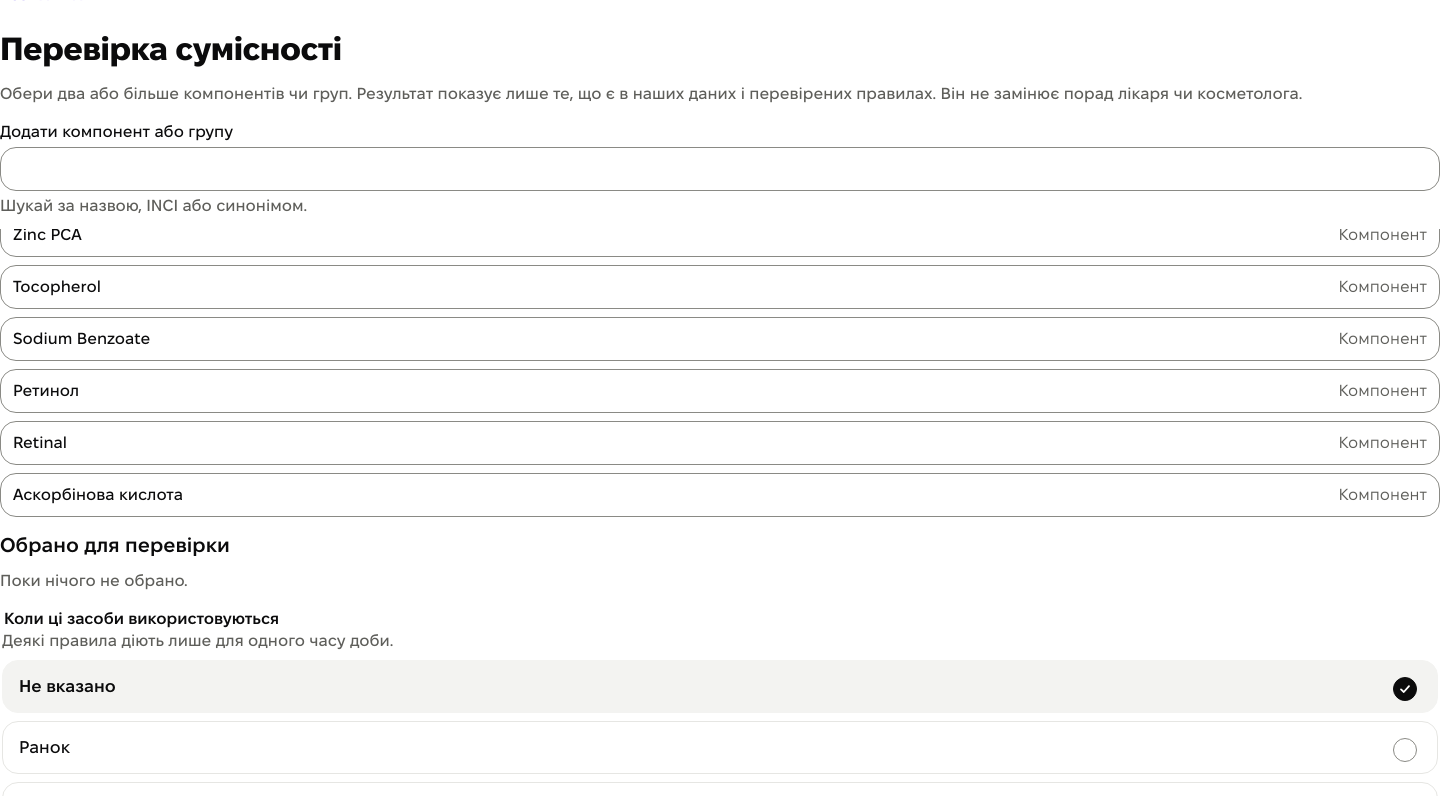
Scenario: CompatCheckerPage: the screen › the choices are toggle buttons that can be taken back
(page scrolled)
Click the button "Ретинол Компонент". click: coordinates (46, 390)
box: [0,369,1439,413]
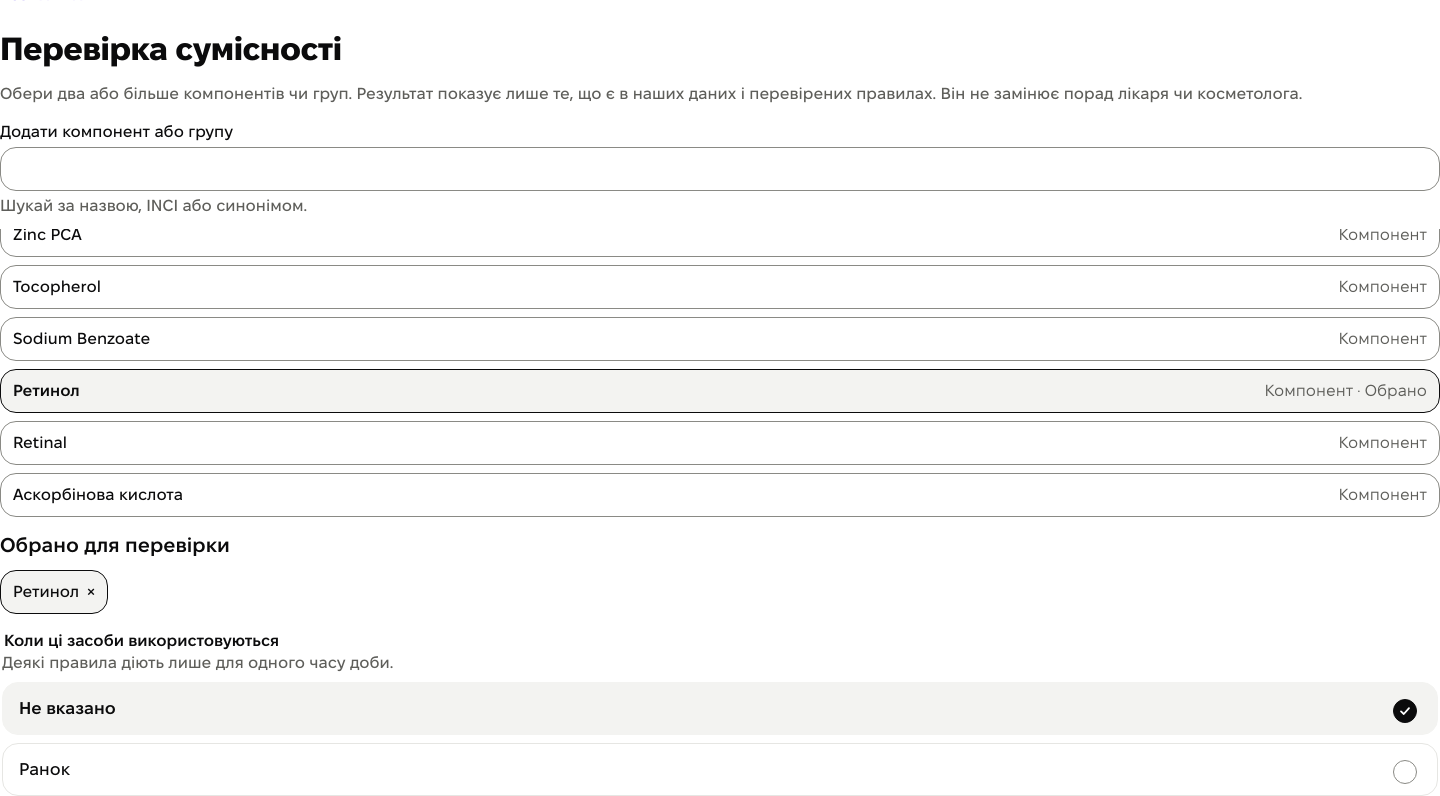
Check: the button "Ретинол Компонент · Обрано" is pressed, box [0,369,1439,413]
Click the button "Ретинол ×". click: coordinates (54, 592)
box: [0,570,108,614]
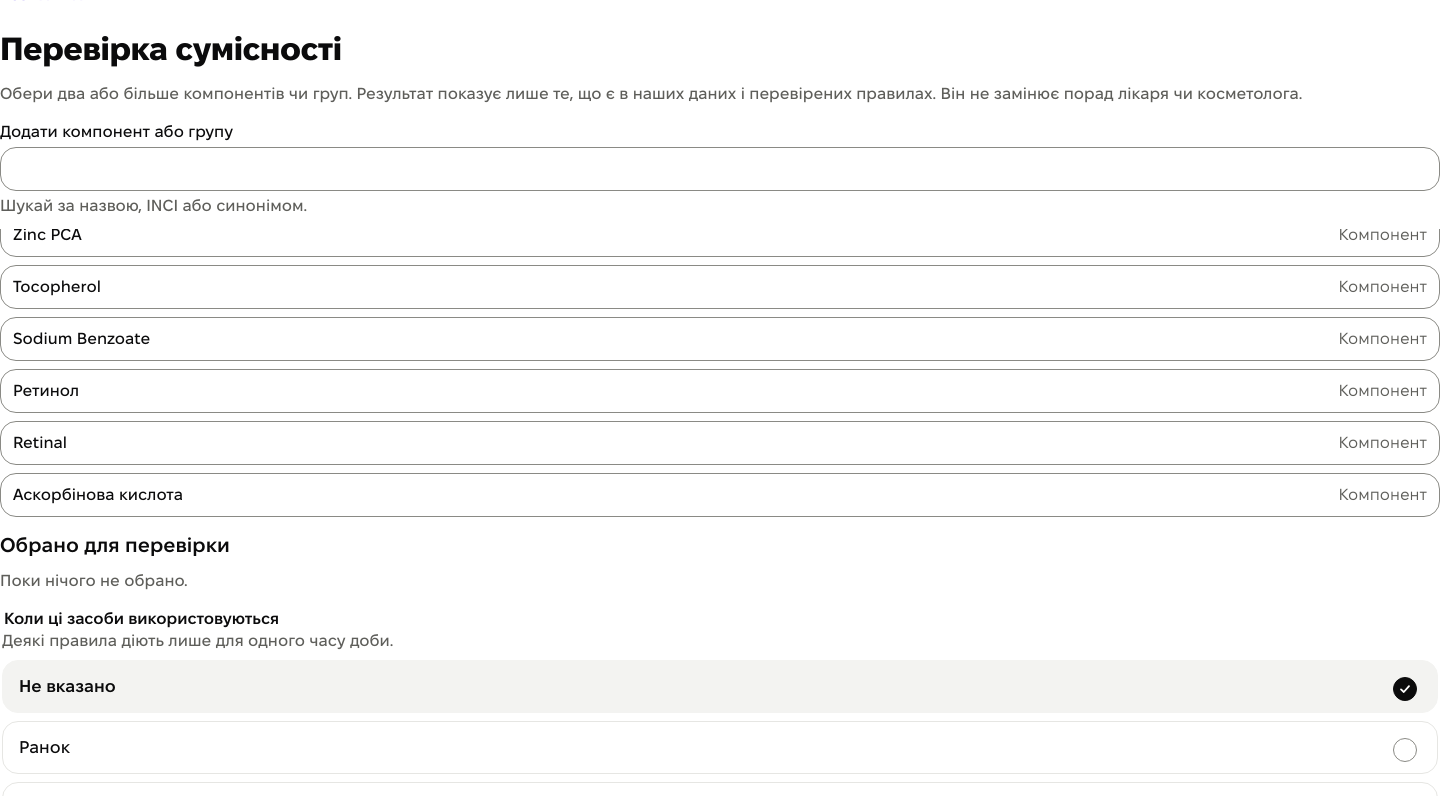
Check: the text "Поки нічого не обрано." is shown, box [0,572,188,589]
